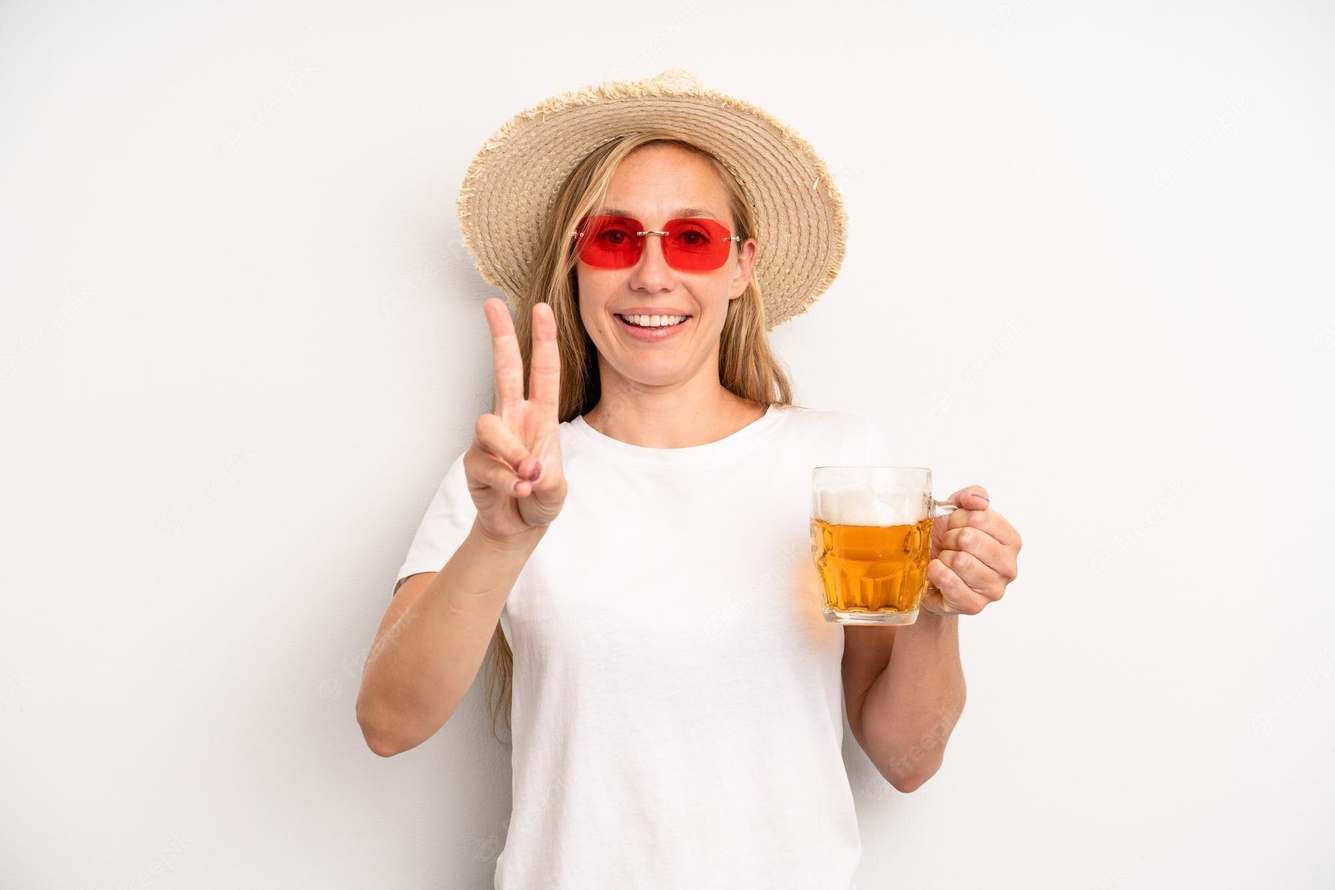glass-mug: (804, 455, 973, 630)
